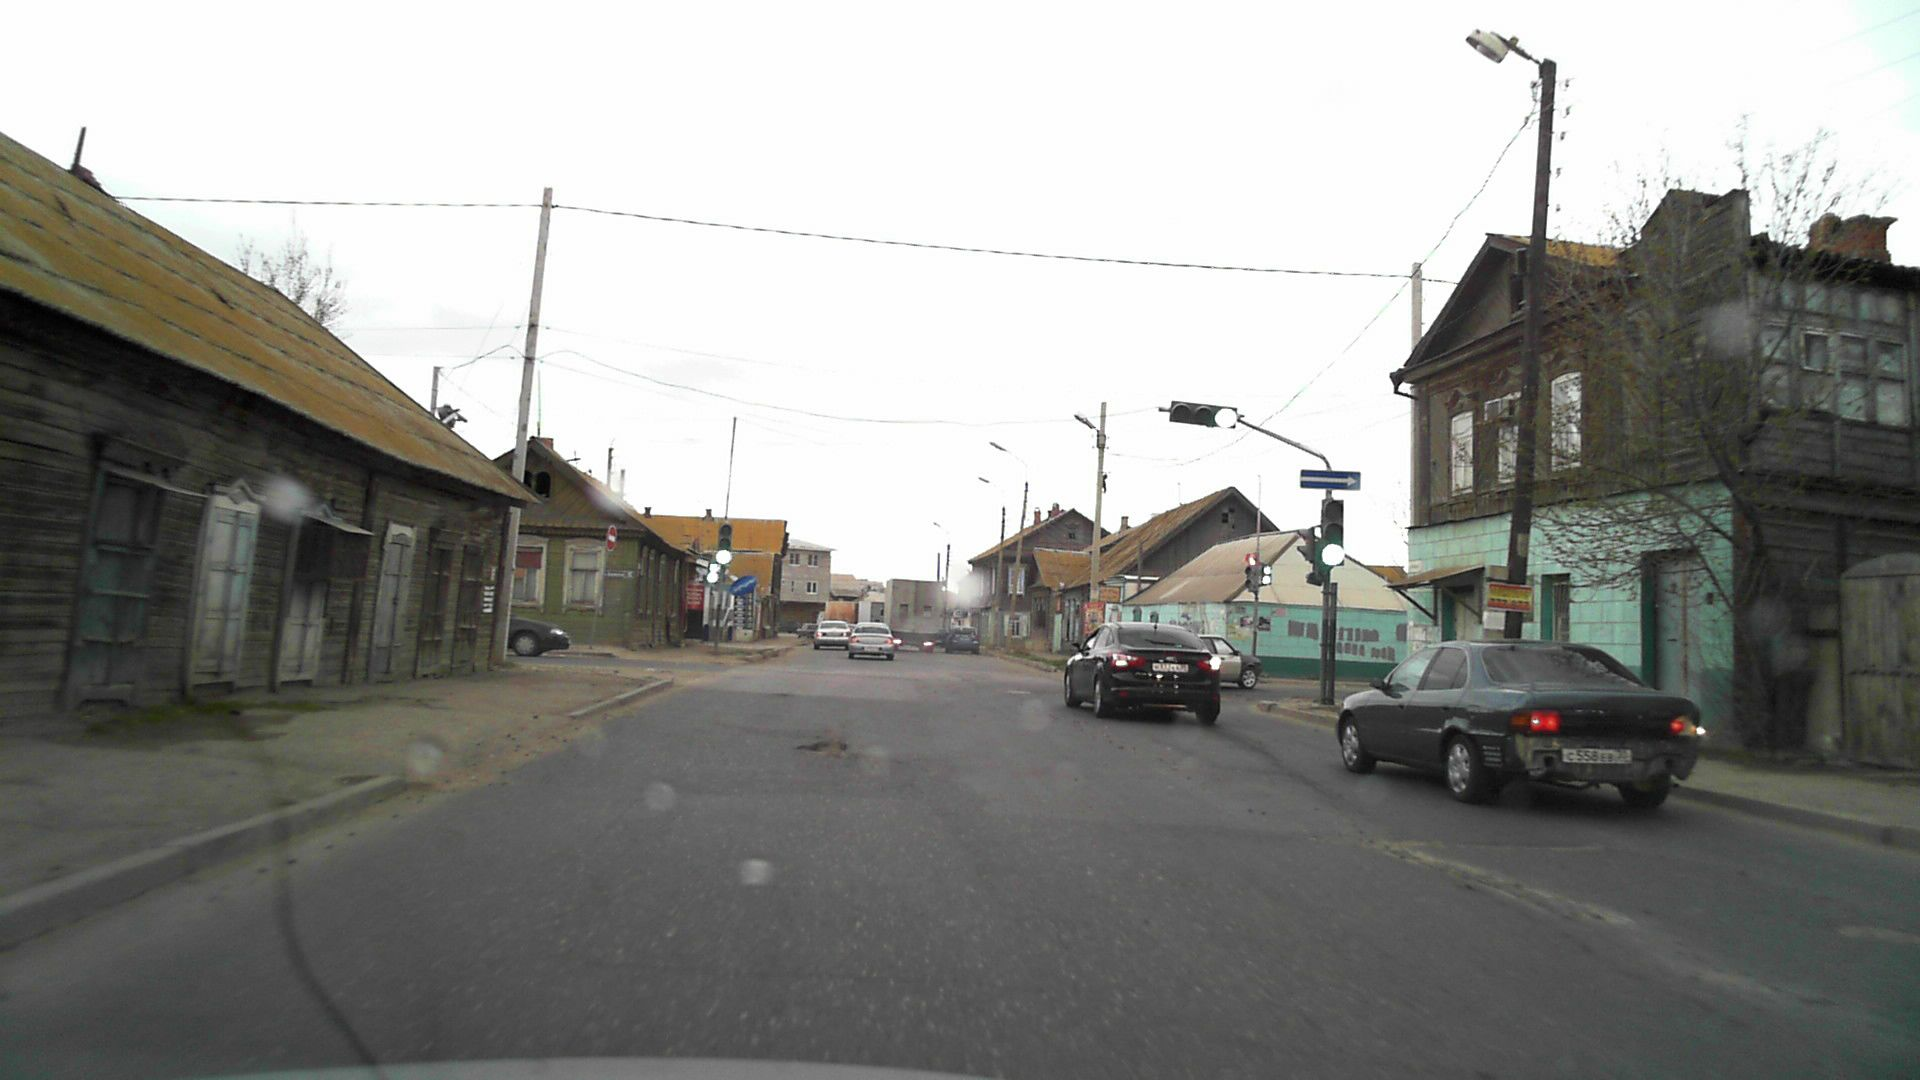One-Way Traffic: (1300, 469, 1361, 491)
